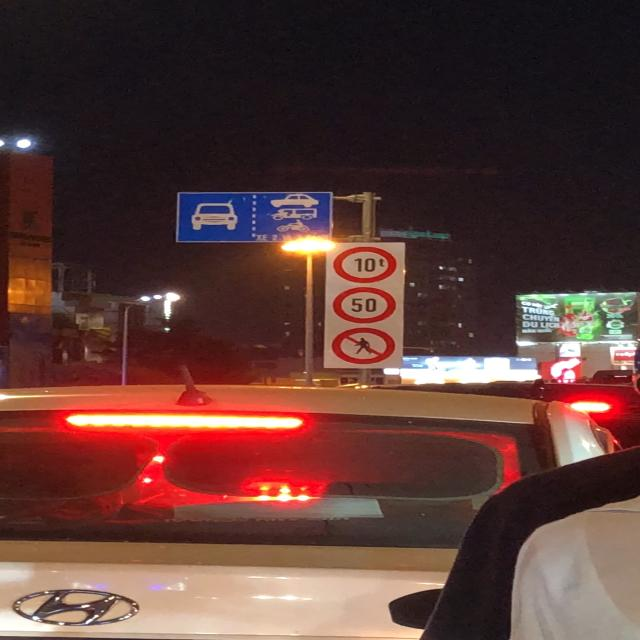Bien bao cam nguoi di bo: (328, 327, 396, 365)
Bien bao toc do toi da cho phep: (334, 285, 396, 325)
